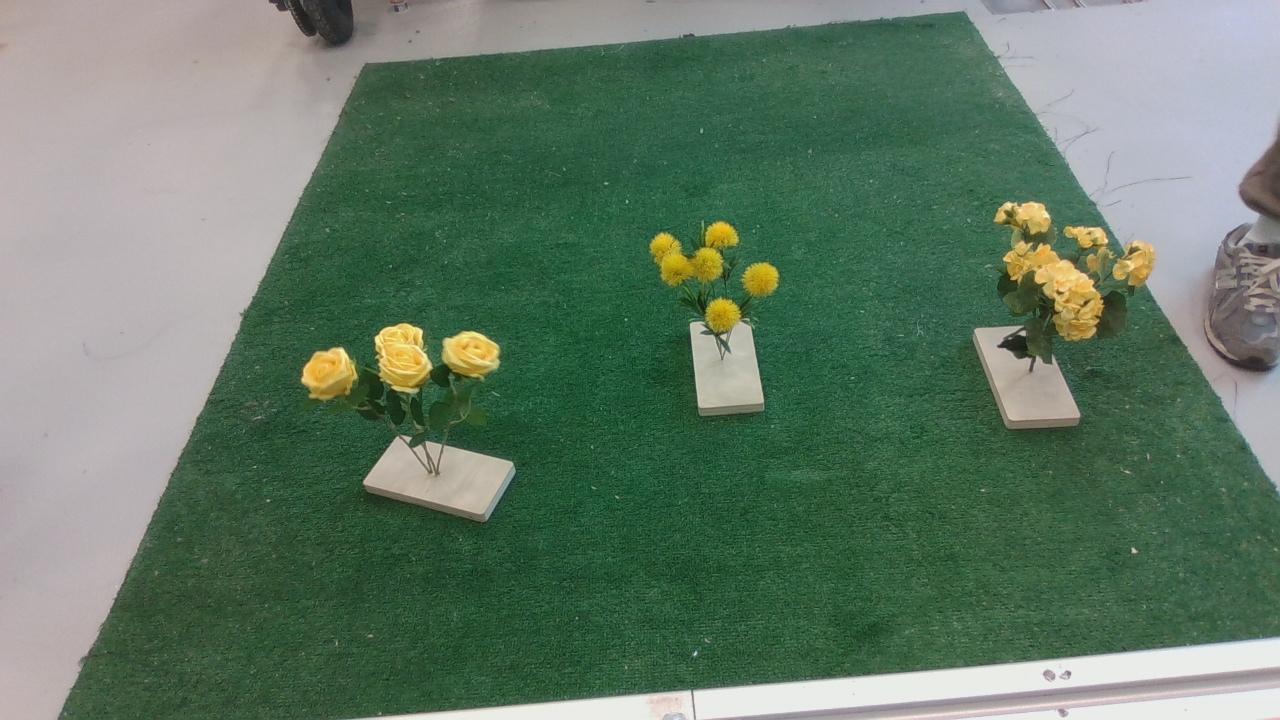dandelion: (639, 214, 790, 363)
geranium: (973, 186, 1169, 377)
rose: (305, 324, 513, 448)
